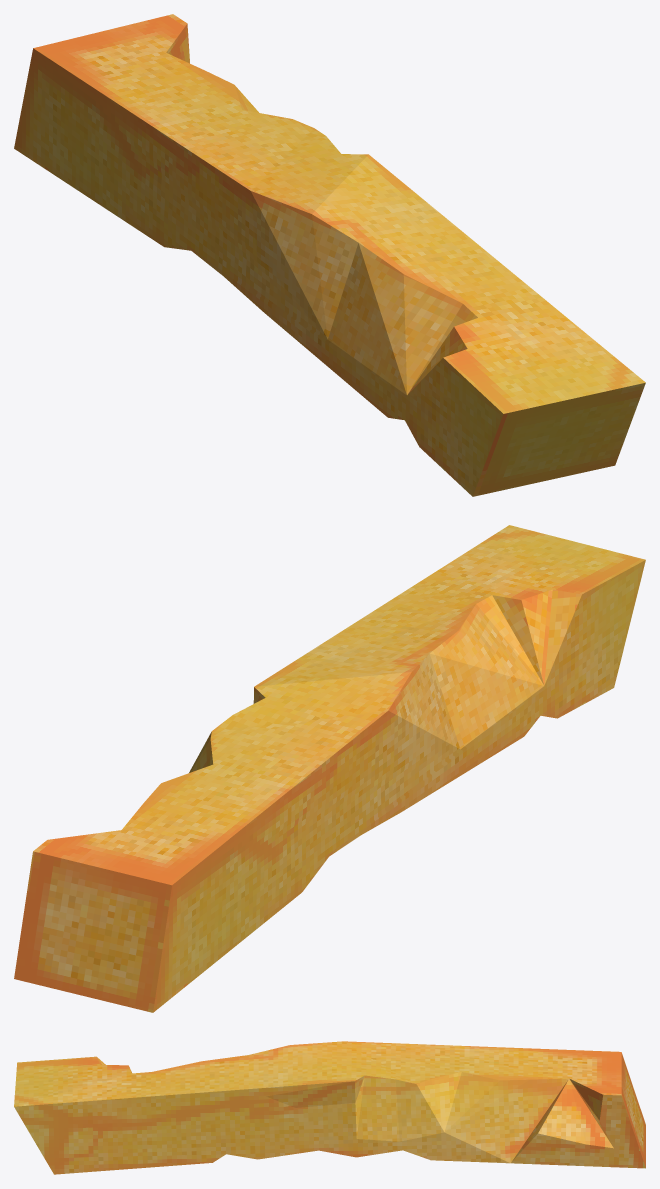
Rendered from fry_wt.fbx.
3 views of the same model, one above another, from view 1: azimuth 30°, elevation 25°; view 2: azimuth 150°, elevation 25°; view 3: azimuth 270°, elevation 25° (orthographic). The views are drawn at different scales.
Visible parts, largest first — view 1: Cube.010; view 2: Cube.010; view 3: Cube.010.
Part boxes in pixels (x1,y1,x2,y2): Cube.010: (14, 14, 645, 496); Cube.010: (14, 525, 645, 1012); Cube.010: (14, 1041, 645, 1174).
Size of the model in its own units: 203 by 193 by 1192.
